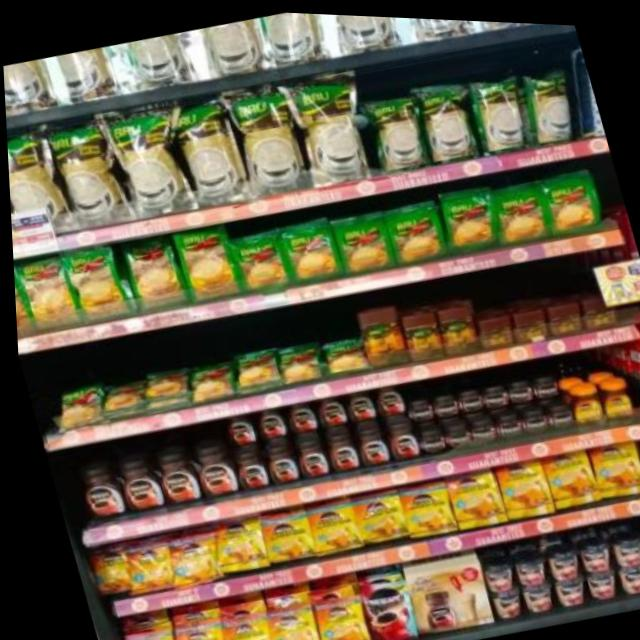Coffee: (439, 463, 500, 527), (489, 452, 549, 516), (352, 580, 412, 640), (537, 444, 596, 505), (205, 514, 263, 575), (393, 475, 449, 536), (301, 494, 359, 551), (254, 505, 311, 562), (586, 434, 640, 493), (348, 483, 403, 540), (185, 439, 236, 500), (75, 461, 125, 522), (162, 531, 216, 587), (305, 591, 366, 640), (113, 454, 162, 512), (120, 539, 171, 593), (151, 446, 199, 503), (256, 599, 318, 640), (227, 442, 271, 491), (86, 549, 128, 597), (209, 607, 270, 640), (316, 427, 357, 471), (350, 422, 389, 464), (260, 438, 297, 482), (162, 614, 224, 640), (593, 372, 630, 414), (566, 379, 602, 421), (290, 434, 326, 476), (383, 416, 418, 458), (251, 404, 283, 437), (283, 397, 314, 431), (342, 386, 372, 419), (314, 392, 344, 424), (371, 382, 401, 414), (540, 396, 573, 425), (113, 625, 175, 640), (223, 412, 252, 444), (515, 401, 546, 429), (452, 383, 482, 411), (426, 388, 456, 416), (414, 422, 444, 450), (440, 418, 470, 446), (529, 368, 558, 396), (475, 380, 506, 406), (463, 413, 494, 439), (489, 408, 518, 434), (503, 375, 530, 401), (404, 395, 431, 419)
